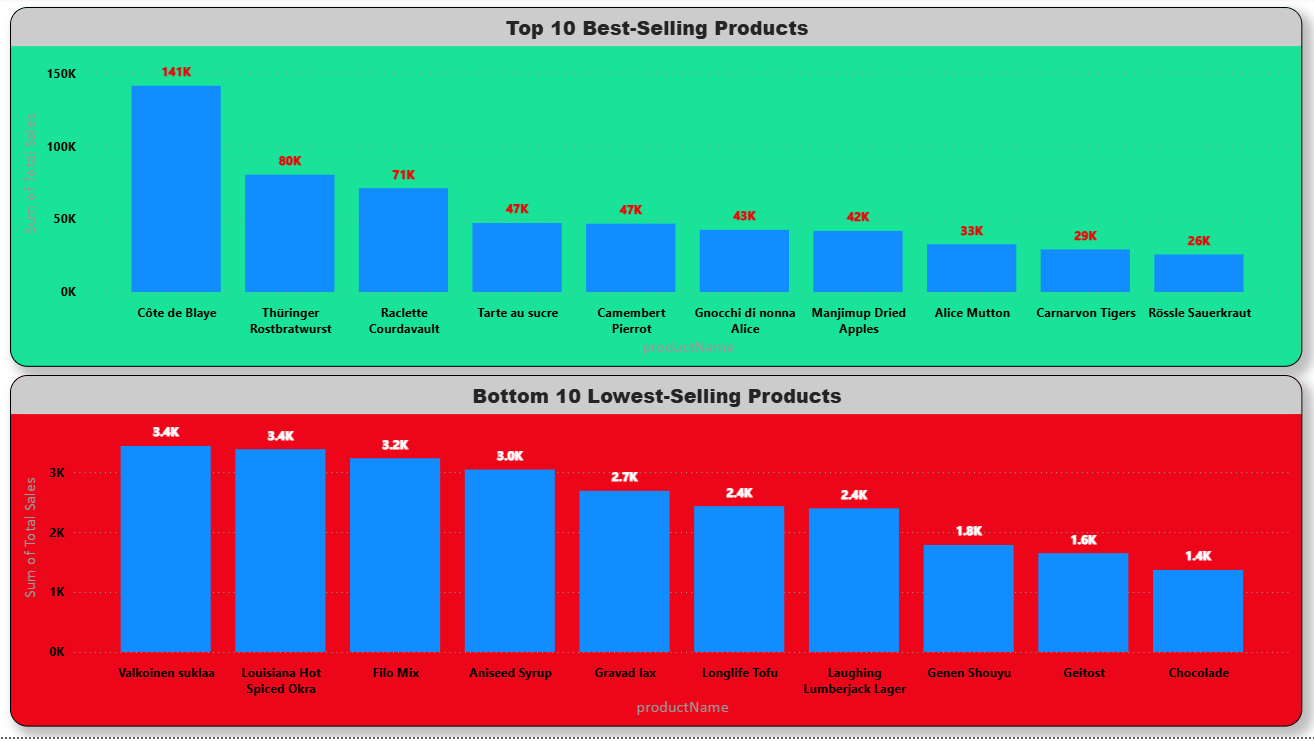

Layout of this report page (visuals, bound fields, positions):
{"tool":"powerbi","page":{"name":"Product Performance","canvas":[1280,720],"ordinal":1},"visuals":[{"type":"clusteredColumnChart","title":"Top 10 Best-Selling Products","fields":{"Category":["products.productName"],"Y":["Sum(order_details.Total Sales)"]},"box":[9.7,9.7,1256.7,350.2],"z":0},{"type":"clusteredColumnChart","title":"Bottom 10 Lowest-Selling Products","fields":{"Category":["products.productName"],"Y":["Sum(order_details.Total Sales)"]},"box":[9.7,367.7,1256.7,342.4],"z":1000}]}

Visuals, with their boxes in screenshot pixels (x1, y1, x2, y2), scaled from the page's 1280x720 canvas onto the 1314x741 screenshot:
"Top 10 Best-Selling Products" clusteredColumnChart: Rect(10, 10, 1300, 370)
"Bottom 10 Lowest-Selling Products" clusteredColumnChart: Rect(10, 378, 1300, 731)
